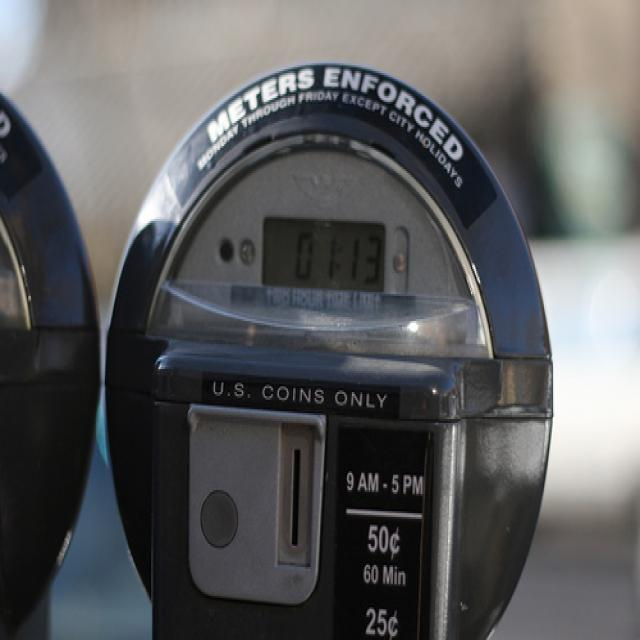Vehicle: (422, 68, 640, 553)
